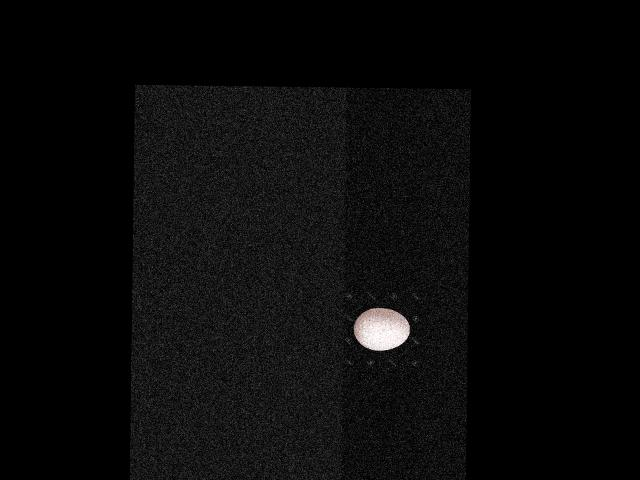egg: (353, 308, 409, 351)
